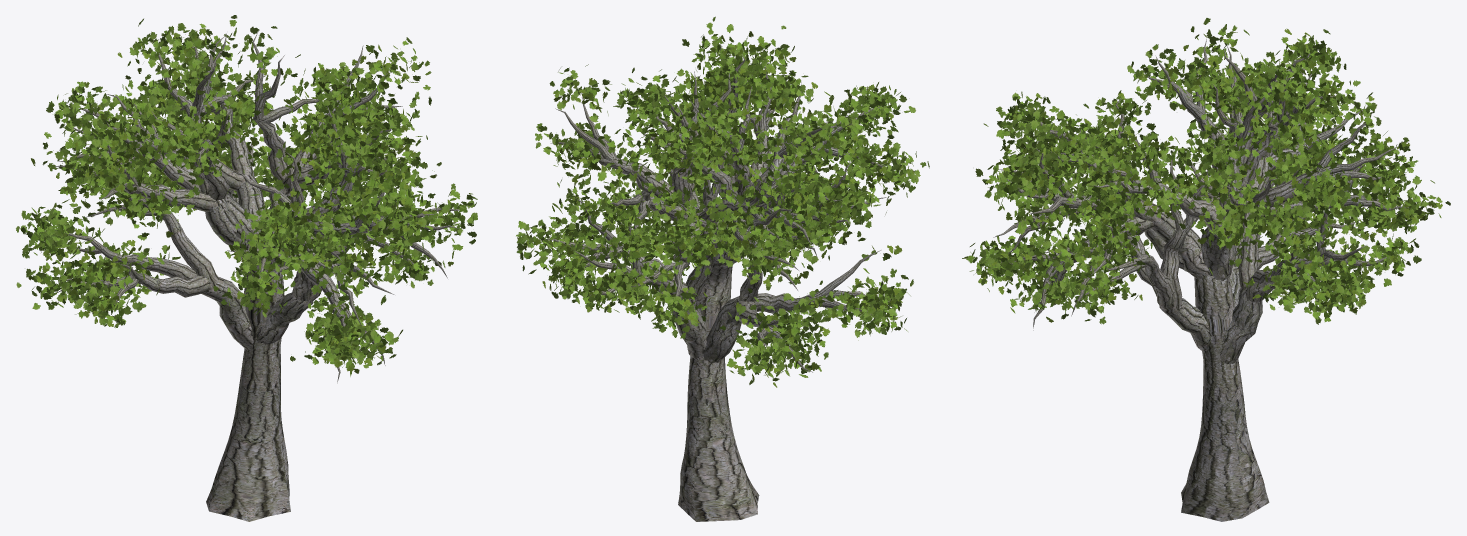
3 views of the same model, side by side, from view 1: azimuth 30°, elevation 25°; view 2: azimuth 150°, elevation 25°; view 3: azimuth 270°, elevation 25° (orthographic). The views are drawn at different scales.
Visible parts, largest first — view 1: Oak foliage cards, Oak_EasyTree_V017_Proof; view 2: Oak foliage cards, Oak_EasyTree_V017_Proof; view 3: Oak foliage cards, Oak_EasyTree_V017_Proof.
Boxes of the visible parts, left/top/right/bottom form: Oak foliage cards: left=16, top=15, right=477, bottom=376; Oak_EasyTree_V017_Proof: left=53, top=32, right=459, bottom=521; Oak foliage cards: left=516, top=16, right=929, bottom=387; Oak_EasyTree_V017_Proof: left=545, top=43, right=888, bottom=521; Oak foliage cards: left=962, top=18, right=1450, bottom=324; Oak_EasyTree_V017_Proof: left=993, top=39, right=1408, bottom=521.
Bounding box in the file's own units: 7.07 × 7.78 × 7.73.
Materials: 2 (2 with a texture image).
